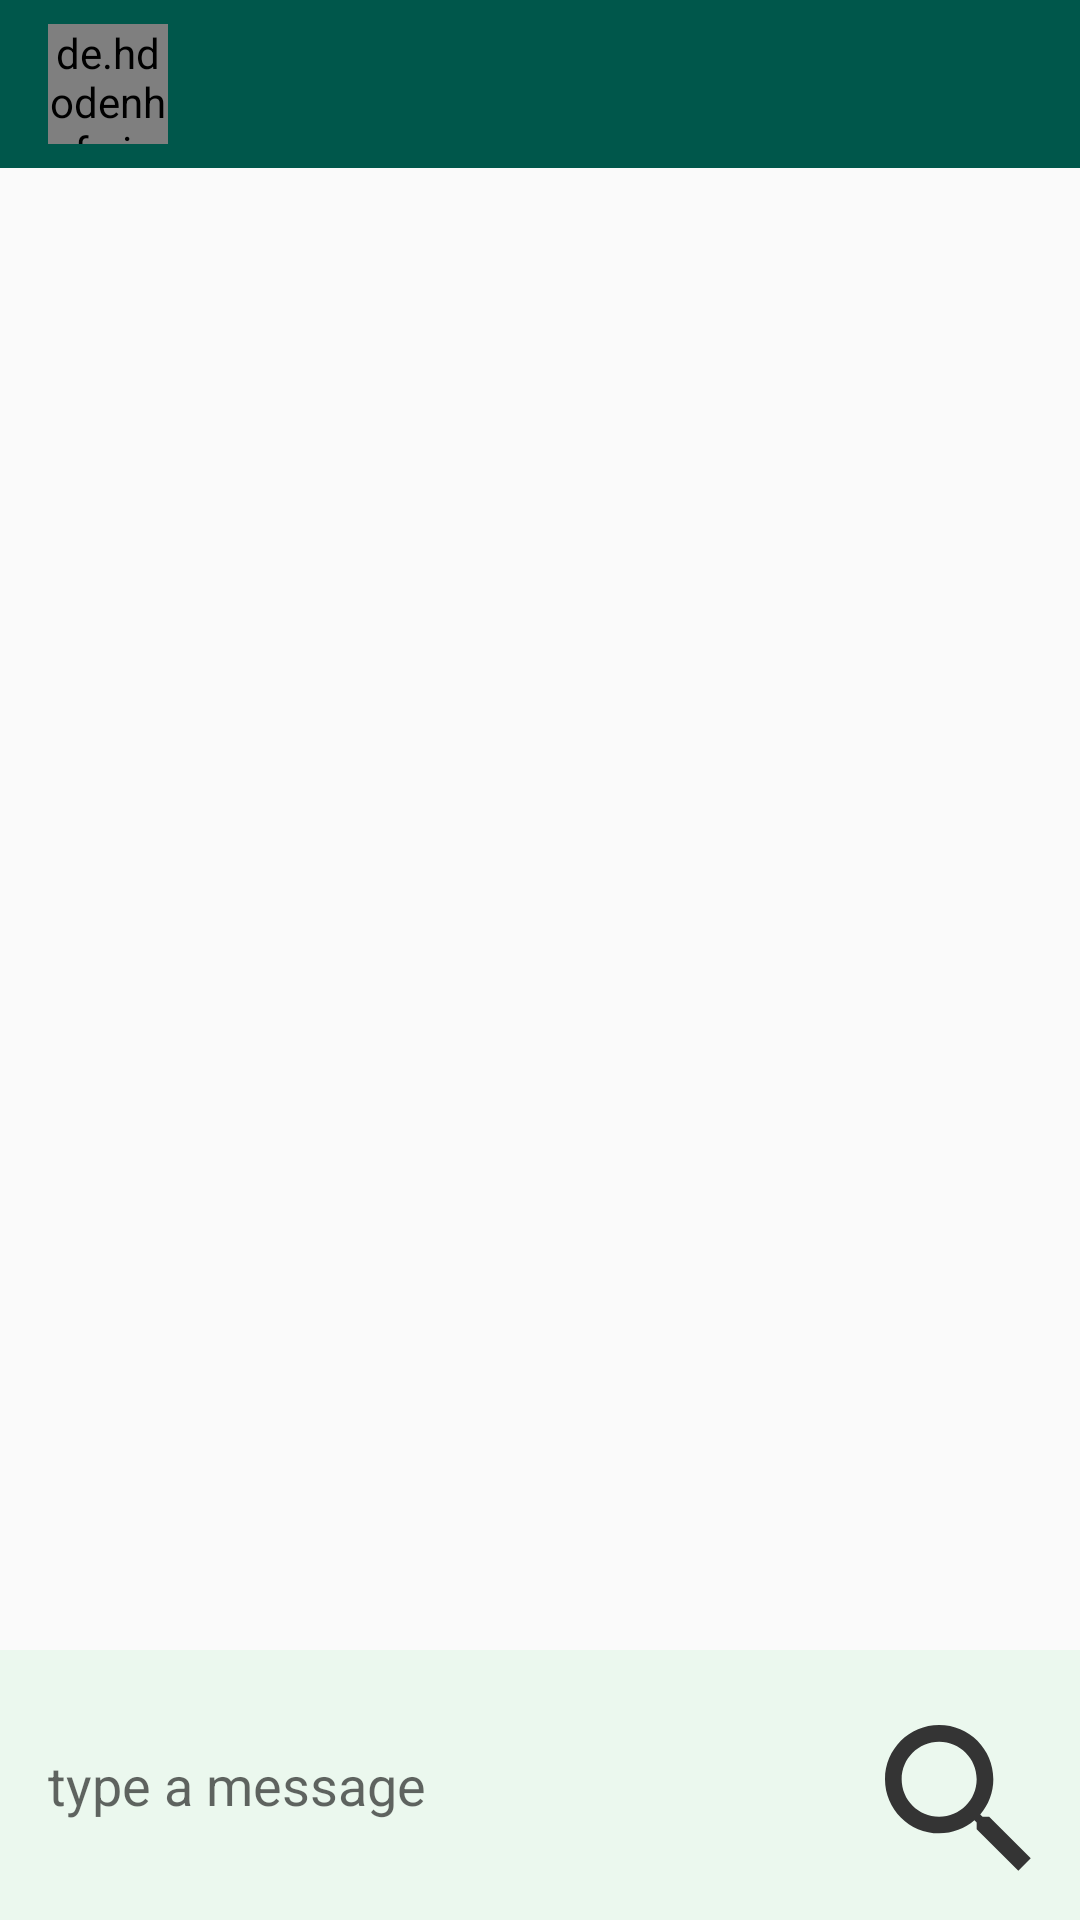

Icons on this 1080w x 1920h Android screen, each with its box as (x1, y1, x2, y2):
search: (885, 1725, 1031, 1871)
